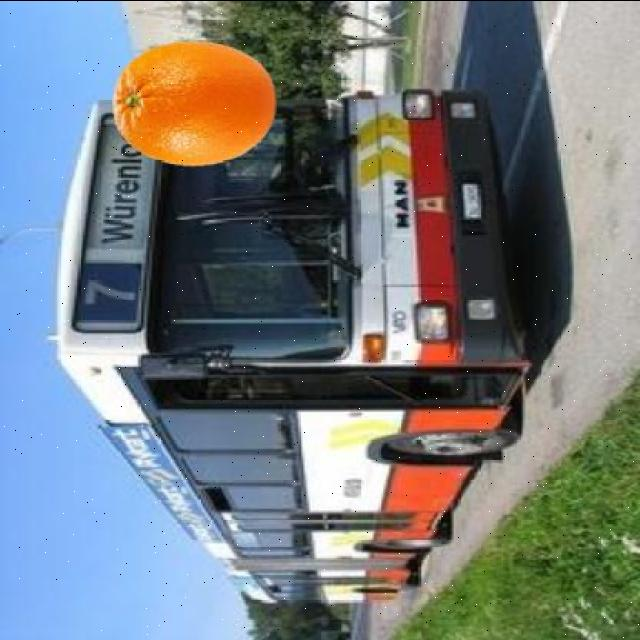Orange: (109, 40, 277, 168)
